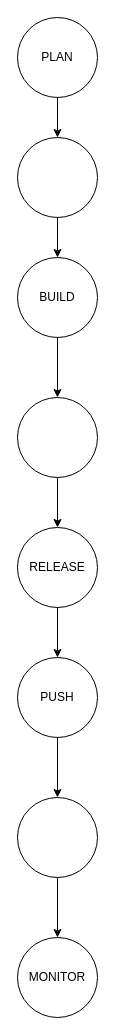
Some shapes in this 115 by 1035 pixel diagram are drawn without their labels. Each missing label, with the box of its shape:
DEVLOP: (16, 136, 98, 218)
OPERATE: (16, 796, 98, 878)
TEST: (16, 396, 98, 478)
